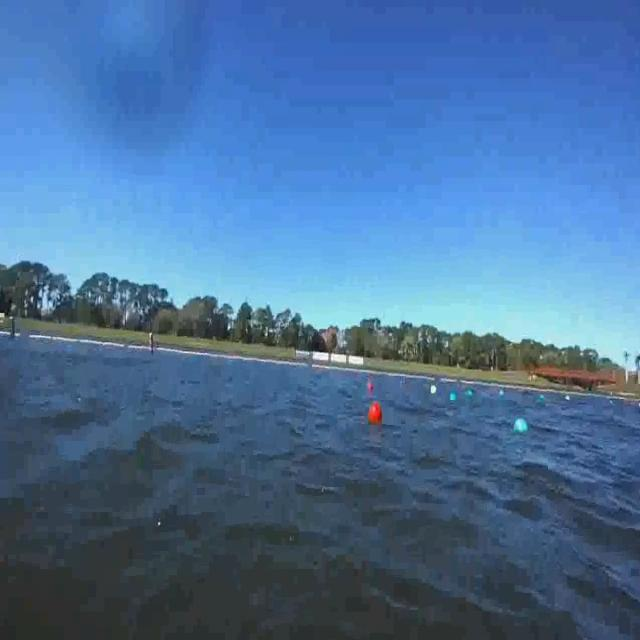green-buoy: (512, 418, 528, 436), (450, 391, 458, 401)
red-buoy: (368, 402, 382, 426)
yellow-buoy: (429, 385, 436, 396)
